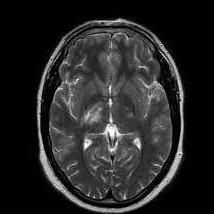Normal_Brain: (10, 1, 212, 214)
